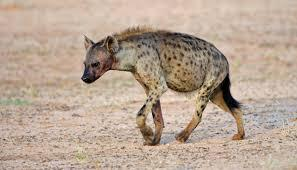hyenas: (73, 23, 246, 147)
